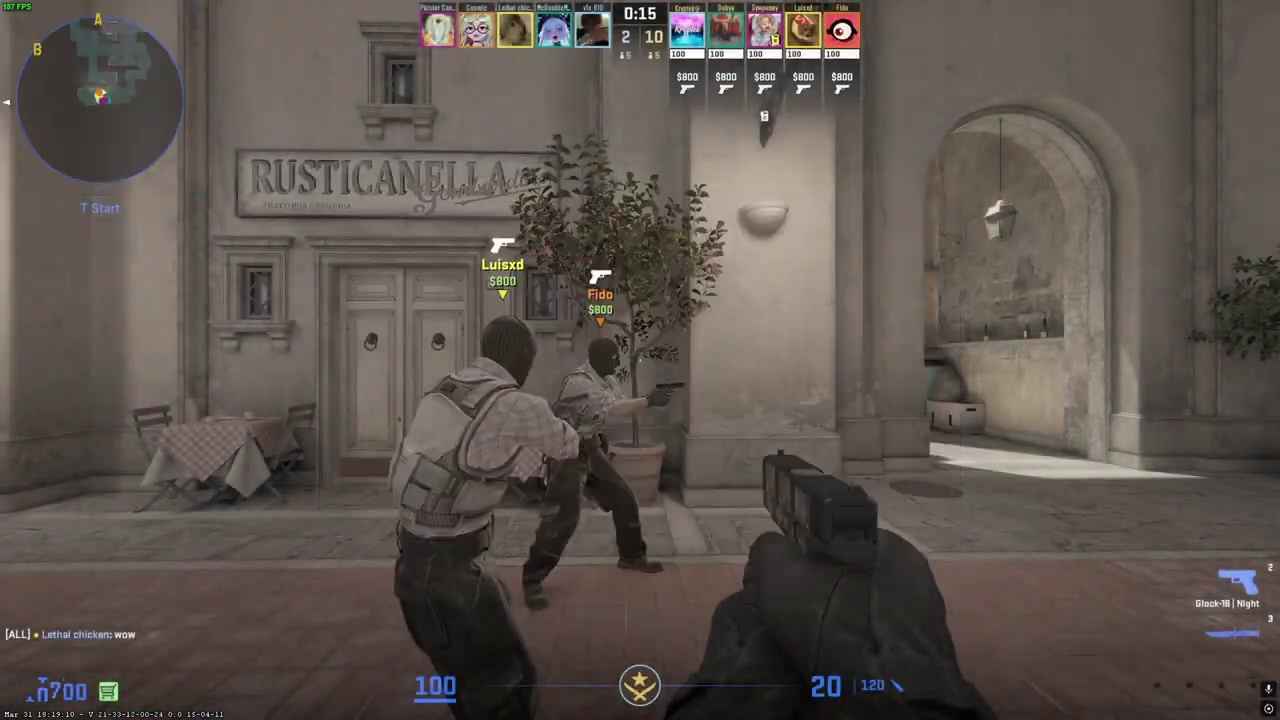Terrorist: (387, 315, 551, 720), (529, 337, 658, 610)
